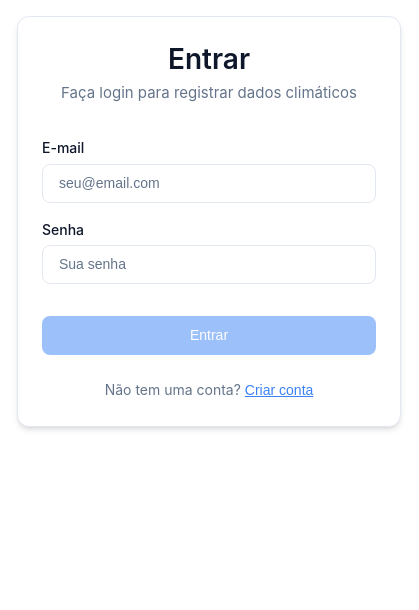
it: LoginView › should show success message and switch to login after register
The image size is (419, 610).
Click the button with class "toggle-link" at [279, 390], box [245, 382, 313, 398]
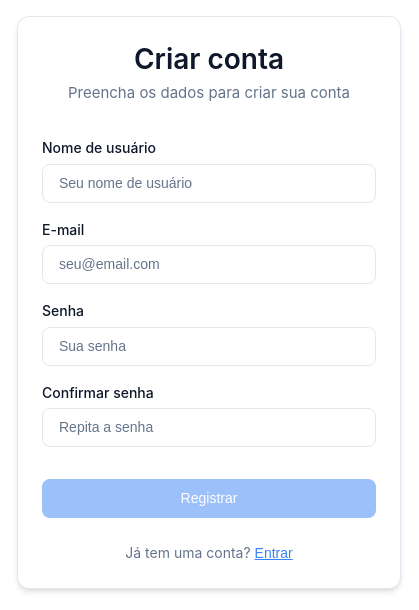
Type "aliare" into the field with id "username" at [209, 183], box [42, 164, 376, 203]
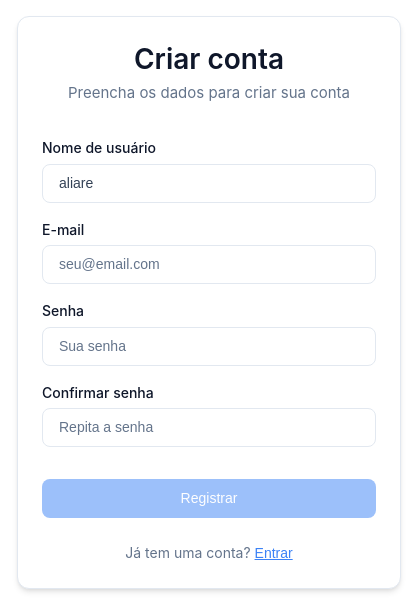
Type "aliare@test.com" into the field with id "email" at [209, 265], box [42, 245, 376, 284]
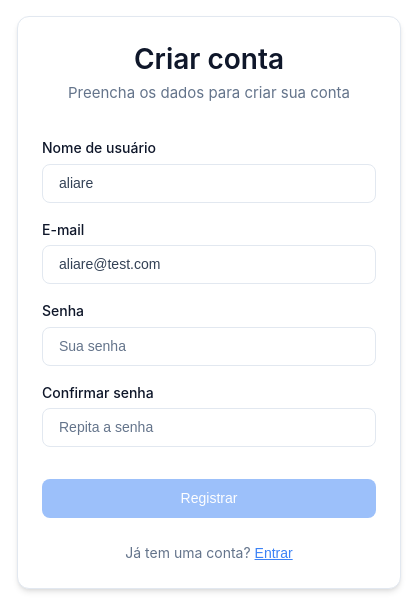
Type "123456" into the password field labelled "Senha" at [209, 346], box [42, 327, 376, 366]
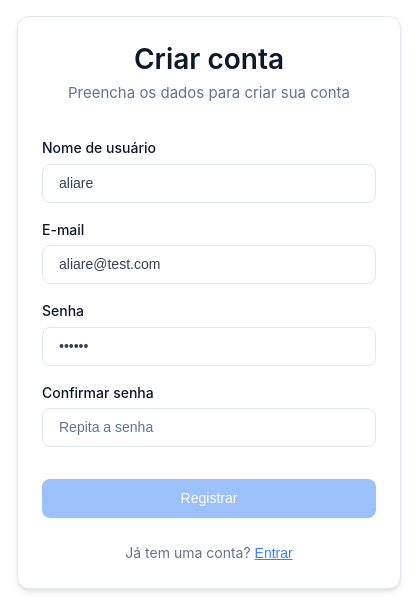
Type "123456" into the password field with id "confirm-password" at [209, 428], box [42, 408, 376, 447]
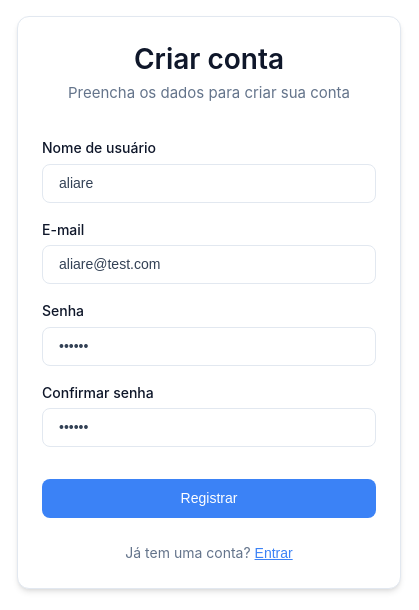
Submit the form, box [42, 137, 376, 518]
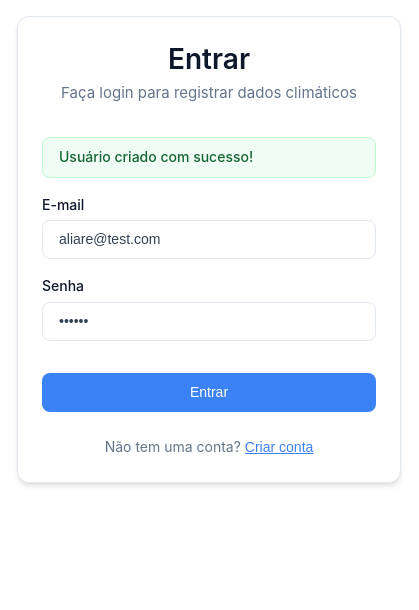
Expected: the text with class "alert--success" reads "Usuário criado com sucesso!", [59, 148, 253, 165]
Expected: the heading "Entrar" is shown, [168, 42, 250, 76]
